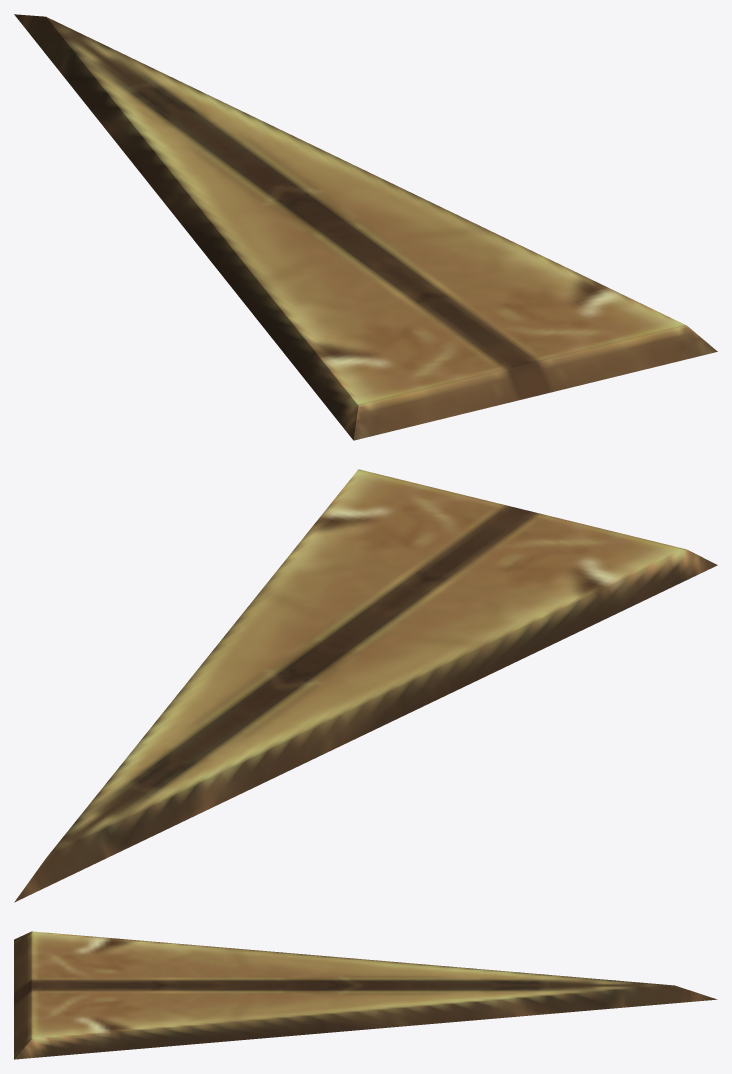
Rendered from G_tuan003.fbx.
The picture shows the model from 3 angles, top to bottom: view 1: azimuth 30°, elevation 25°; view 2: azimuth 150°, elevation 25°; view 3: azimuth 270°, elevation 25°; orthographic projection. The views are drawn at different scales.
Visible parts, largest first — view 1: G_tuan003; view 2: G_tuan003; view 3: G_tuan003.
Boxes of the visible parts, box(x1,y1,x2,y2) form: G_tuan003: box(14, 14, 717, 440); G_tuan003: box(14, 469, 717, 902); G_tuan003: box(14, 931, 717, 1059).
Size of the model in its own units: 143 by 7.9 by 355.
